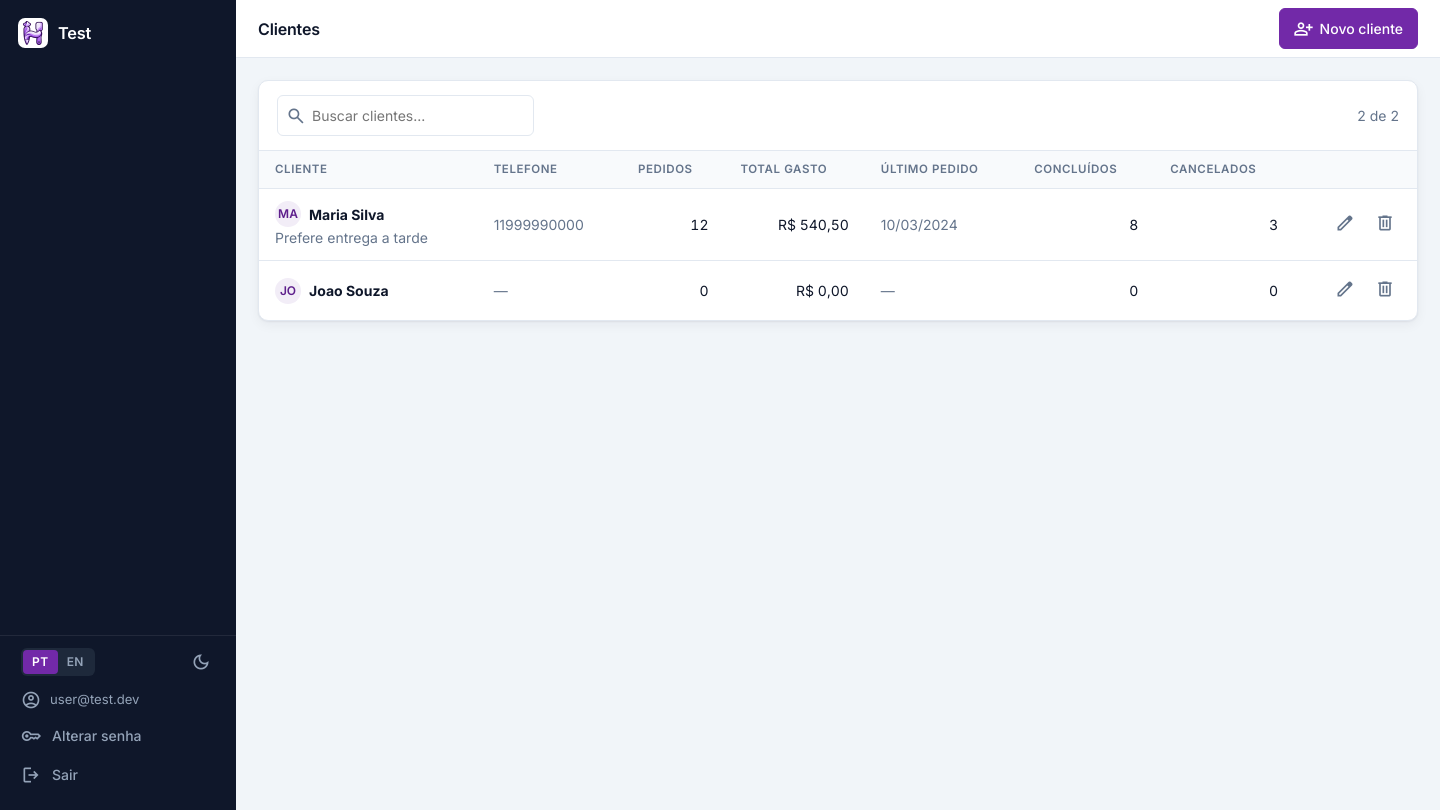
it: Customers › mostra mensagem de filtro sem resultado
Step 1. Type "inexistente" into the search field with placeholder "Buscar clientes..." → (406, 116), box [277,95,534,136]
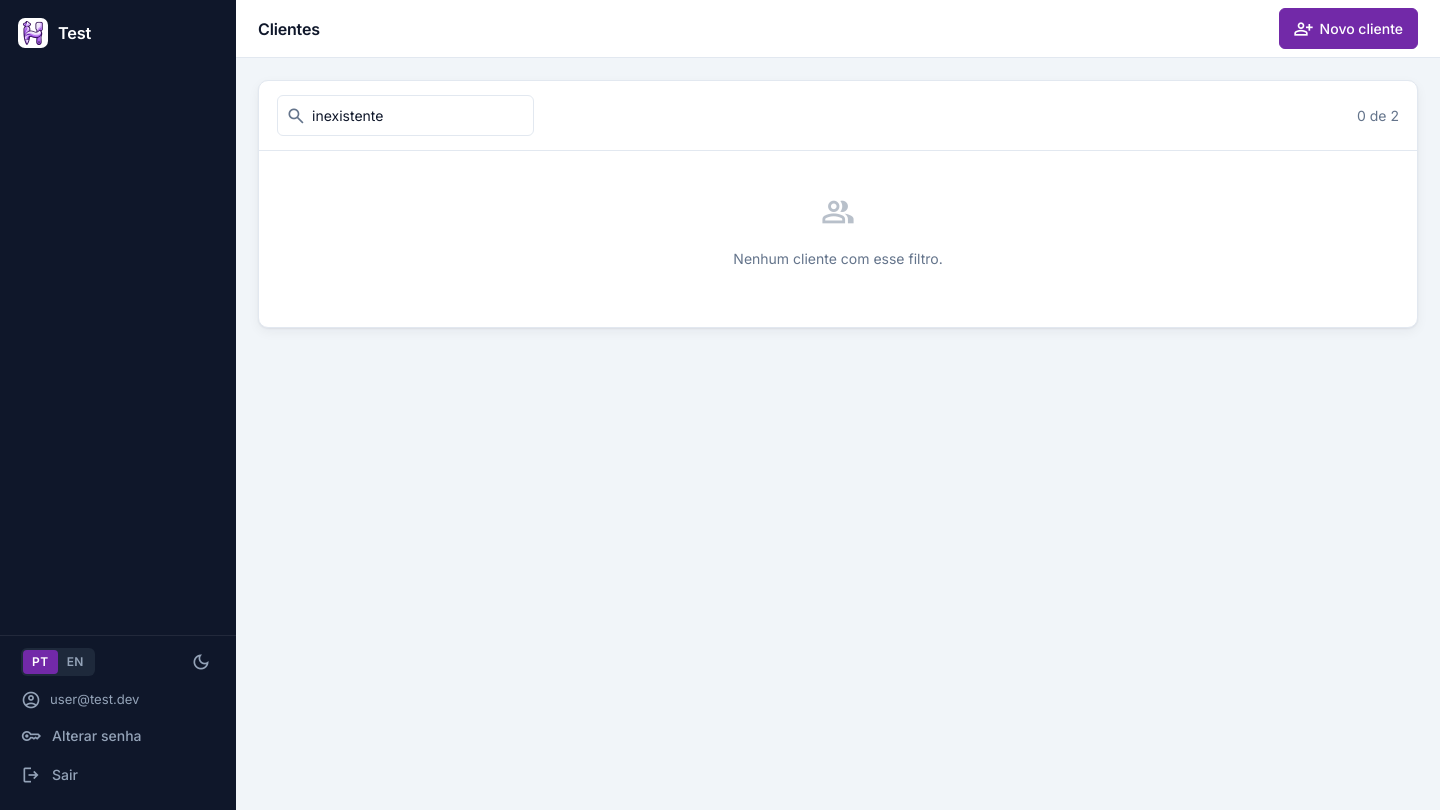
Now the text "Nenhum cliente com esse filtro." is shown, box [733,250,943,267]
